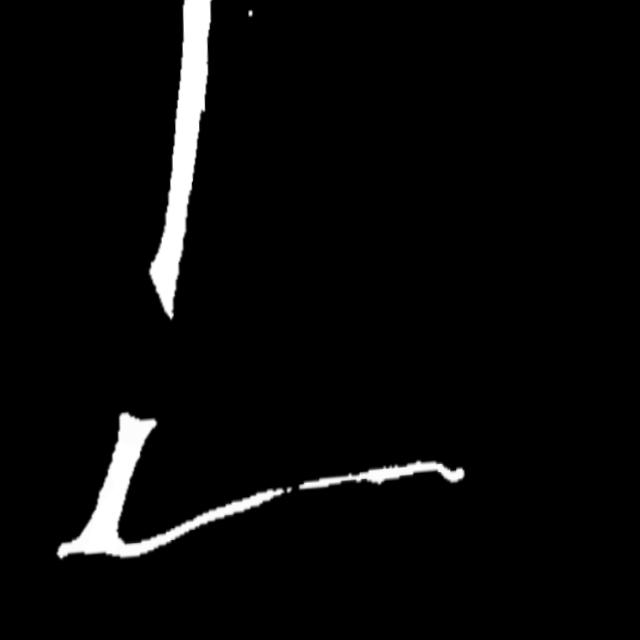inf: (280, 481, 313, 503)
